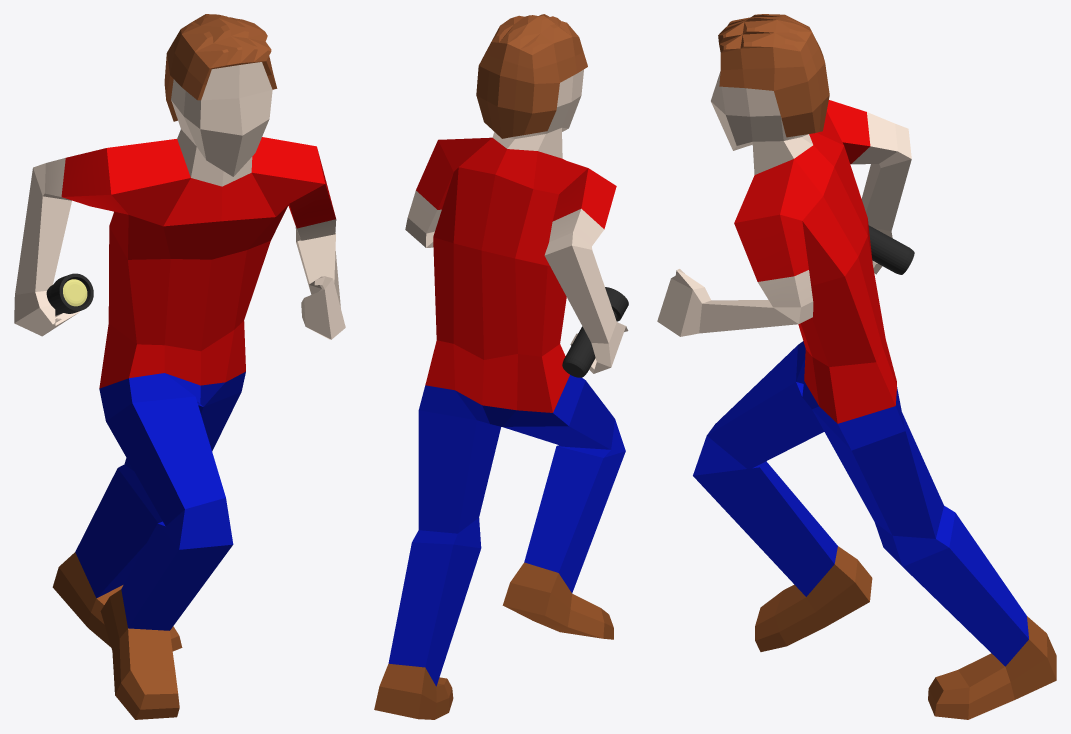
Rendered from Human_running_13.fbx.
3 views of the same model, side by side, from view 1: azimuth 30°, elevation 25°; view 2: azimuth 150°, elevation 25°; view 3: azimuth 270°, elevation 25° (orthographic). The views are drawn at different scales.
Parts seen in each view (by area): view 1: Person.004, Flashlight; view 2: Person.004, Flashlight; view 3: Person.004, Flashlight.
Boxes of the visible parts, x1,y1,x2,y2 form: Person.004: (14,14,345,719); Flashlight: (46,273,93,315); Person.004: (374,14,628,719); Flashlight: (562,287,628,377); Person.004: (657,14,1056,719); Flashlight: (868,225,914,274).
Bounding box in the file's own units: 0.6222 × 1.52 × 0.8095.
